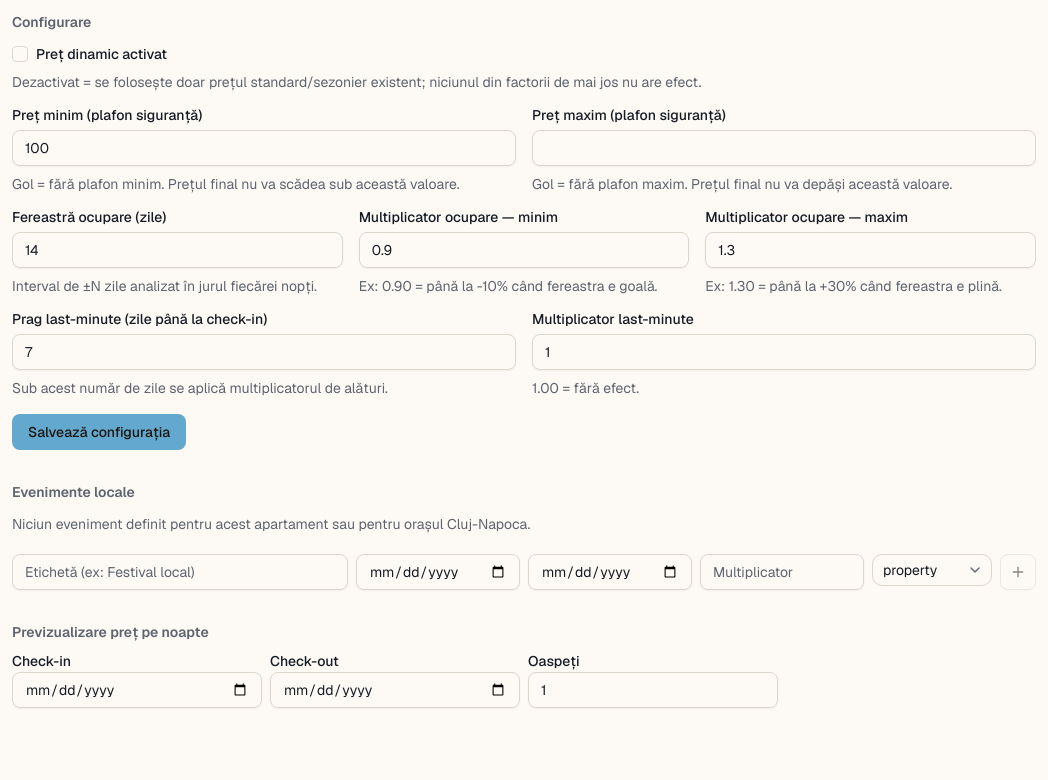
PricingAdminSection › rejects a negative leadTimeDays with the real form
The image size is (1048, 780).
Replace the text in the number field labelled "Prag last-minute (zile până la check-in)" with "-1". click: (264, 352)
box: top-left (12, 334), bottom-right (516, 370)
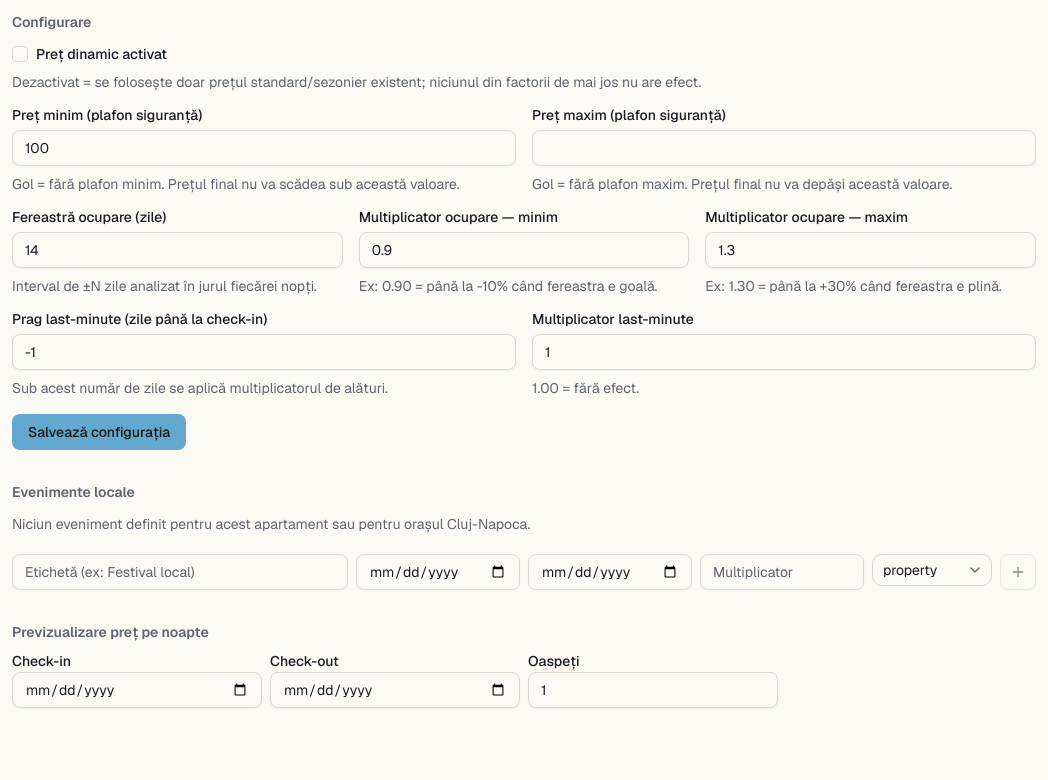
Submit the form named "Salvează configurația", box top-left (12, 44), bottom-right (1036, 450)
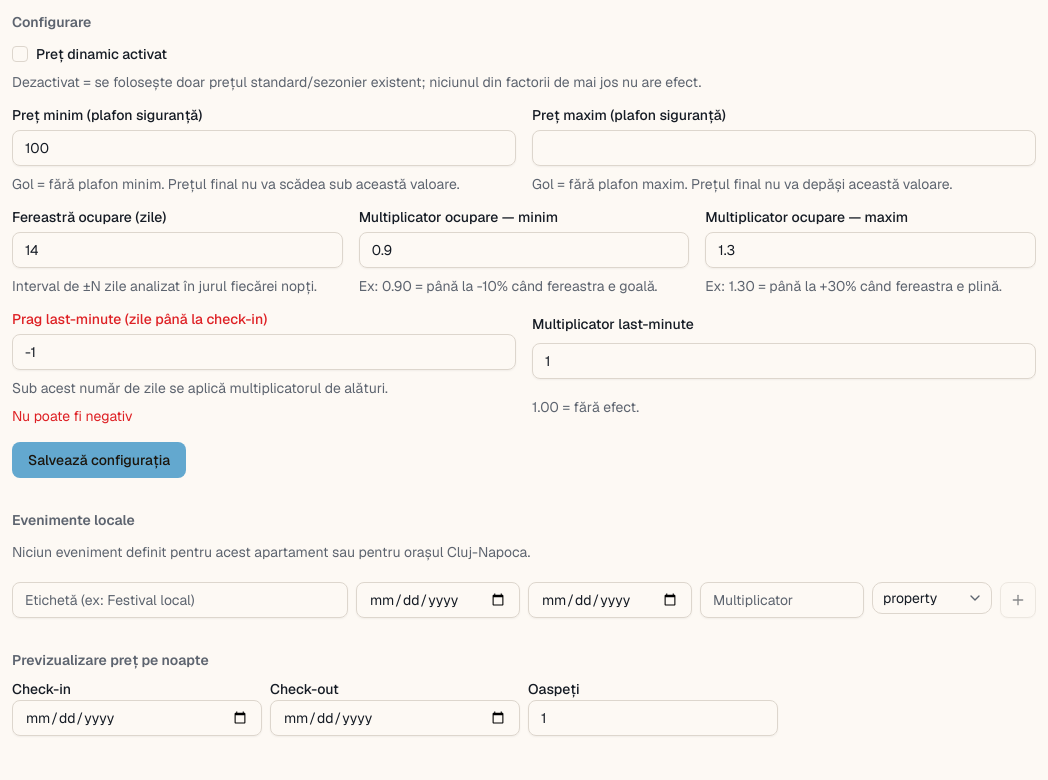
Now the text "Nu poate fi negativ" is shown, box top-left (12, 407), bottom-right (132, 425)
